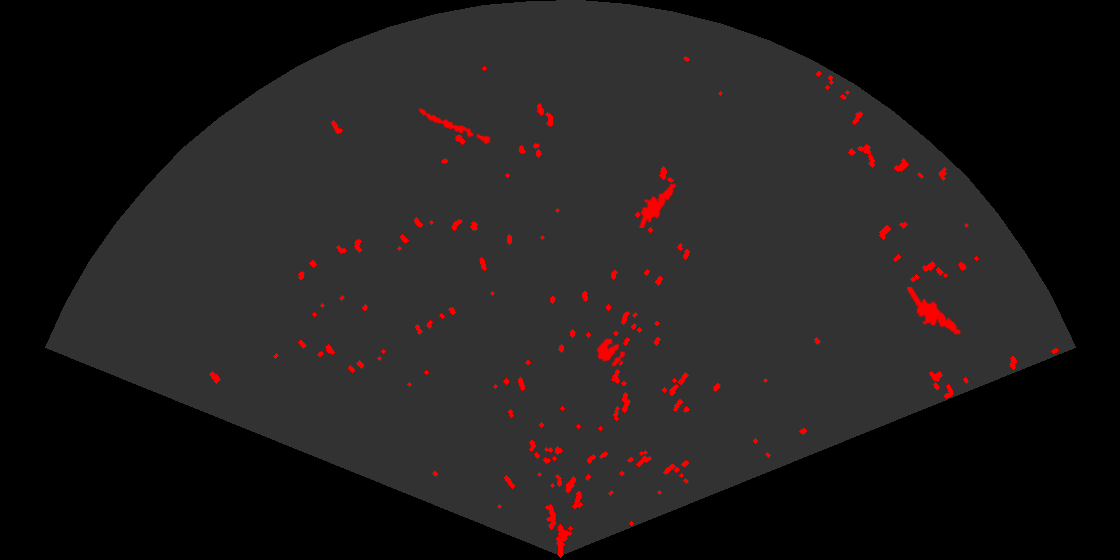ball: (595, 337, 627, 368)
chain: (416, 107, 494, 146)
frogman: (907, 287, 964, 342), (637, 173, 679, 228)
